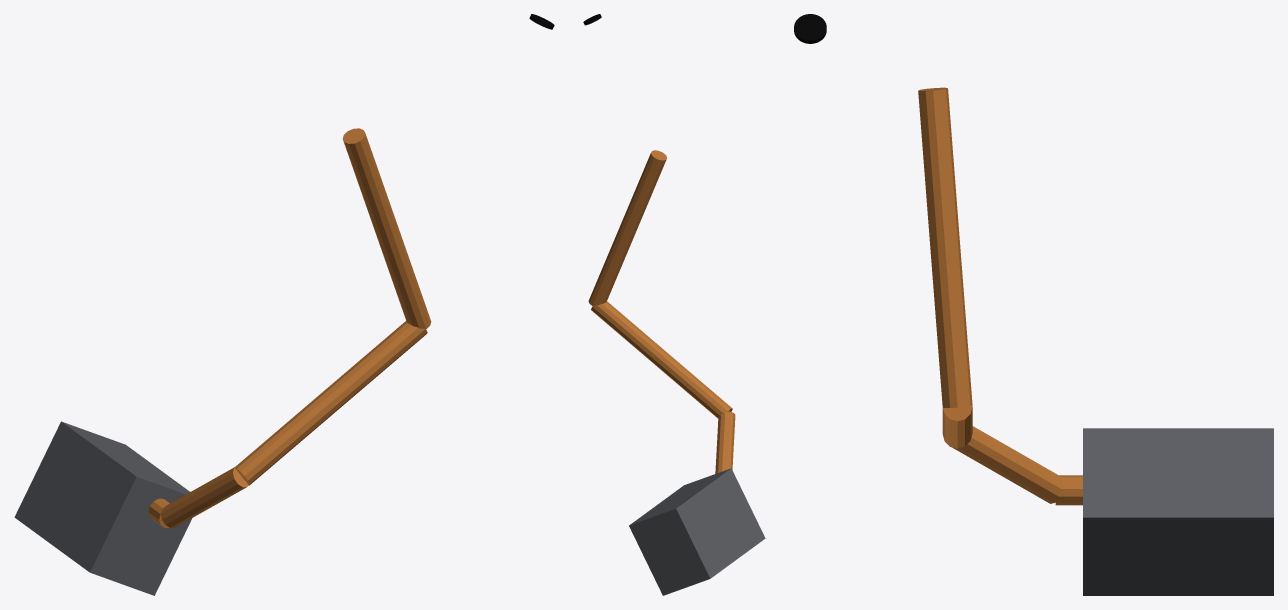
Rendered from earthing_loose.glb.
3 renders of one model, left to right at view 1: azimuth 30°, elevation 25°; view 2: azimuth 150°, elevation 25°; view 3: azimuth 270°, elevation 25°, orthographic. The views are drawn at different scales.
Visible parts, largest first — view 1: earthing_loose; view 2: earthing_loose; view 3: earthing_loose.
Part boxes in pixels (<box>): earthing_loose: <box>14,14,554,595</box>; earthing_loose: <box>583,14,765,595</box>; earthing_loose: <box>794,14,1273,595</box>.
Bounding box in the file's own units: 0.38 × 0.6062 × 0.352.
